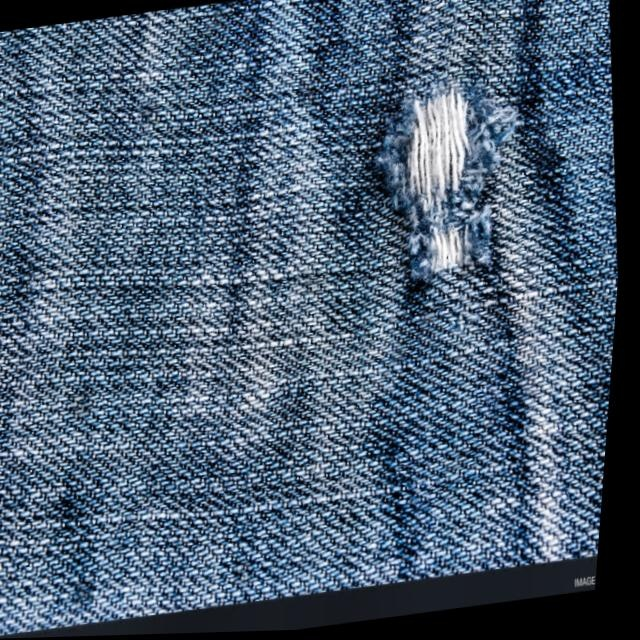Hole: (322, 30, 567, 335)
